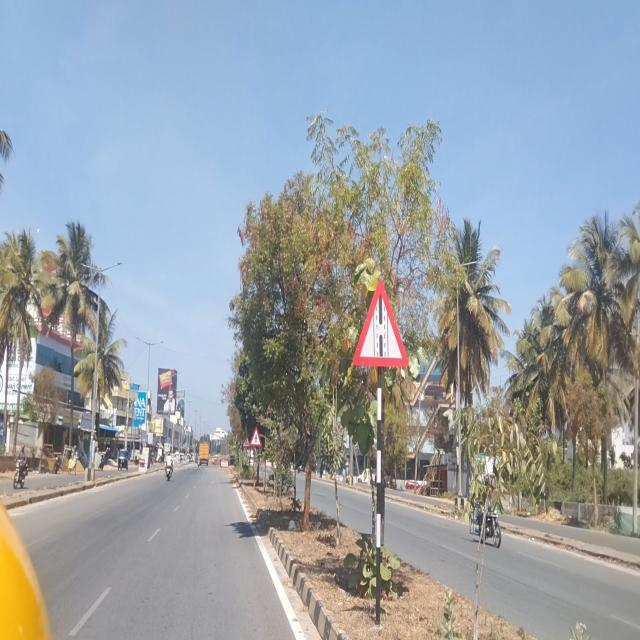bien_cam: (351, 276, 409, 370), (250, 426, 262, 447)
